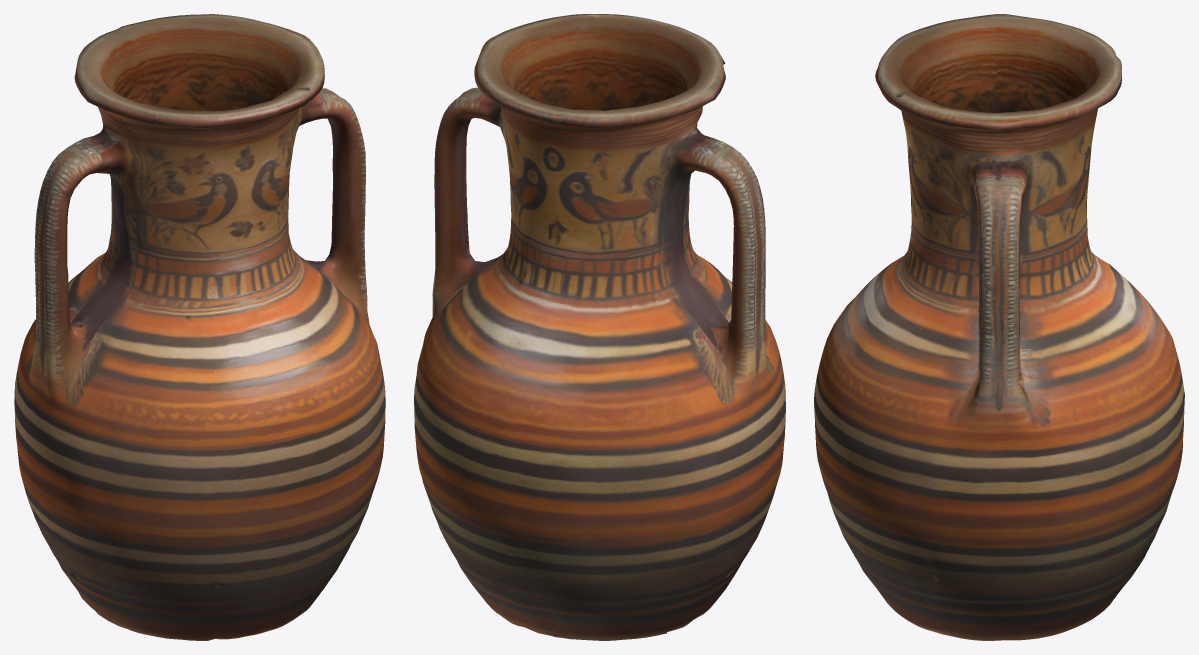
Rendered from Amphora_Elegance_0414170524_texture.glb.
3 renders of one model, left to right at view 1: azimuth 30°, elevation 25°; view 2: azimuth 150°, elevation 25°; view 3: azimuth 270°, elevation 25°, orthographic.
Bounding box in the file's own units: 1.24 × 1.95 × 1.24.
Materials: 1 (1 with a texture image).
